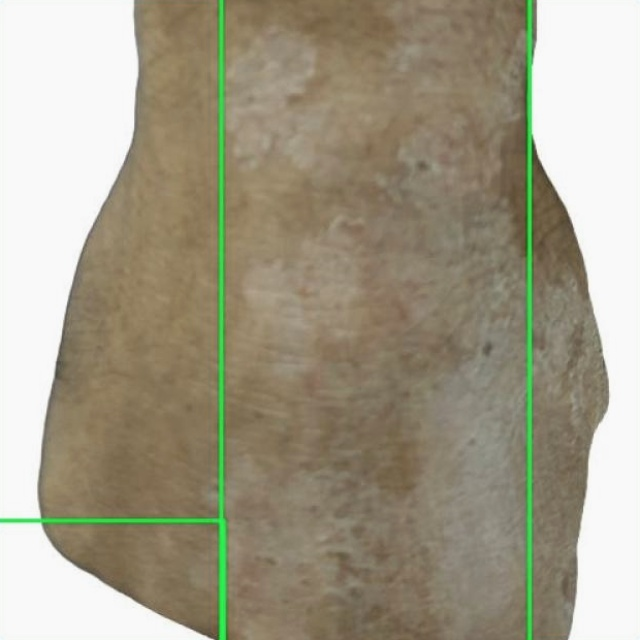Tinea Corporis: (0, 0, 221, 639), (529, 0, 639, 639), (0, 520, 224, 639)
